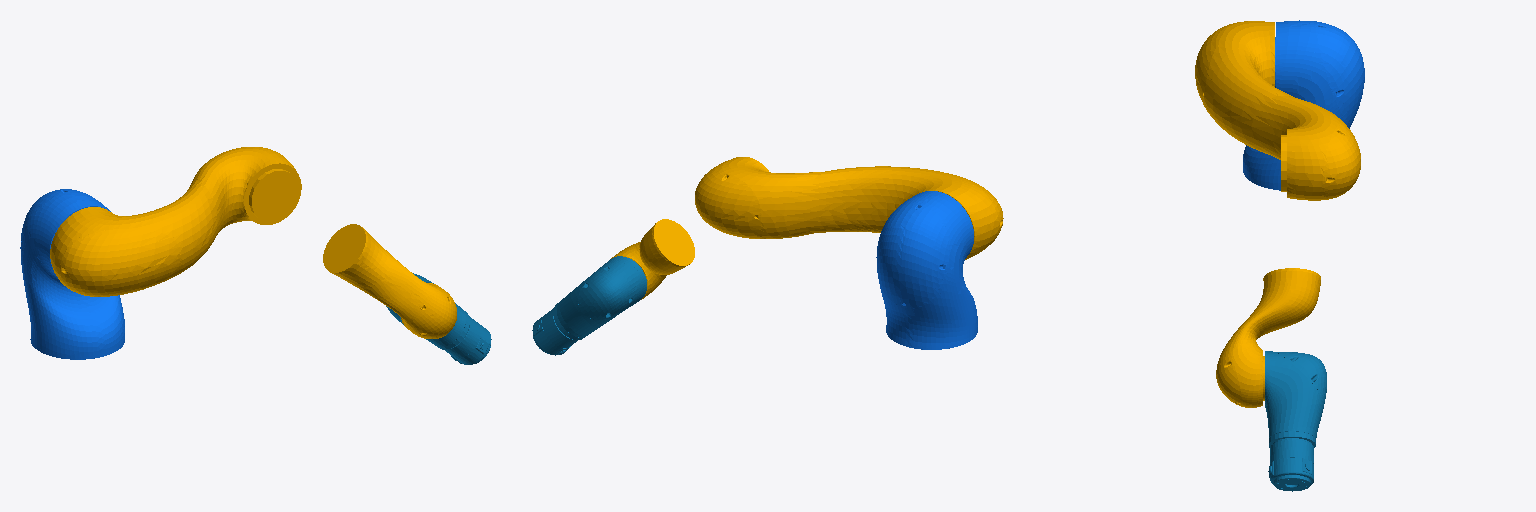
URDF robot description (hsr_co602a):
<robot
  name="hsr_co602a">

  <link name="world"/>

  <joint name="fixed" type="fixed">
    <parent link="world"/>
    <child link="base_link"/>
	<origin
      xyz="0 0 1"
      rpy="0 0 0" />
  </joint> 

  <link
    name="base_link">
    <inertial>
      <origin
        xyz="-0.0024614 3.992E-07 0.076752"
        rpy="0 0 0" />
      <mass
        value="4.8818" />
      <inertia
        ixx="0"
        ixy="0"
        ixz="0"
        iyy="0"
        iyz="0"
        izz="0" />
    </inertial>
    <visual>
      <origin
        xyz="0 0 0"
        rpy="0 0 0" />
      <geometry>
        <mesh
          filename="package://hsr_description/meshes/co602a/base_link.STL" />
      </geometry>
      <material
        name="">
        <color
          rgba="0.1137 0.5098 0.97 1" />
      </material>
    </visual>
    <collision>
      <origin
        xyz="0 0 0"
        rpy="0 0 0" />
      <geometry>
        <mesh
          filename="package://hsr_description/meshes/co602a/base_link.STL" />
      </geometry>
    </collision>
  </link>
  <link
    name="link1">
    <inertial>
      <origin
        xyz="-3.4523E-06 -0.02843 0.064536"
        rpy="0 0 0" />
      <mass
        value="4.9839" />
      <inertia
        ixx="0"
        ixy="0"
        ixz="0"
        iyy="0"
        iyz="0"
        izz="0" />
    </inertial>
    <visual>
      <origin
        xyz="0 0 0"
        rpy="0 0 0" />
      <geometry>
        <mesh
          filename="package://hsr_description/meshes/co602a/link1.STL" />
      </geometry>
      <material
        name="">
        <color
          rgba="0.1137 0.5098 0.97 1" />
      </material>
    </visual>
    <collision>
      <origin
        xyz="0 0 0"
        rpy="0 0 0" />
      <geometry>
        <mesh
          filename="package://hsr_description/meshes/co602a/link1.STL" />
      </geometry>
    </collision>
  </link>
  <joint
    name="joint_1"
    type="revolute">
    <origin
      xyz="0 0 0.352"
      rpy="3.1416 0 -3.4694E-18" />
    <parent
      link="base_link" />
    <child
      link="link1" />
    <axis
      xyz="0 0 -1" />
    <limit
      lower="-3.490658503988"
      upper="3.490658503988"
      effort="28"
      velocity="3.2" />
    <safety_controller
      soft_upper_limit="3.481931857728"
      soft_lower_limit="-3.481931857728"
      k_position="100"
      k_velocity="10" />
  </joint>
  <link
    name="link2">
    <inertial>
      <origin
        xyz="4.7574E-06 -0.18488 -0.037843"
        rpy="0 0 0" />
      <mass
        value="6.6939" />
      <inertia
        ixx="0"
        ixy="0"
        ixz="0"
        iyy="0"
        iyz="0"
        izz="0" />
    </inertial>
    <visual>
      <origin
        xyz="0 0 0"
        rpy="0 0 0" />
      <geometry>
        <mesh
          filename="package://hsr_description/meshes/co602a/link2.STL" />
      </geometry>
      <material
        name="">
        <color
          rgba="0.97 0.7 0 1" />
      </material>
    </visual>
    <collision>
      <origin
        xyz="0 0 0"
        rpy="0 0 0" />
      <geometry>
        <mesh
          filename="package://hsr_description/meshes/co602a/link2.STL" />
      </geometry>
    </collision>
  </link>
  <joint
    name="joint_2"
    type="revolute">
    <origin
      xyz="0 0 0"
      rpy="1.5708 -1.5708 0" />
    <parent
      link="link1" />
    <child
      link="link2" />
    <axis
      xyz="0 0 1" />
    <limit
      lower="-2.268928027592"
      upper="1"
      effort="28"
      velocity="3.2" />
    <safety_controller
      soft_upper_limit="1"
      soft_lower_limit="-2.260201381332"
      k_position="100"
      k_velocity="10" />
  </joint>
  <link
    name="link3">
    <inertial>
      <origin
        xyz="-4.098E-05 -0.085254 -0.035956"
        rpy="0 0 0" />
      <mass
        value="2.3223" />
      <inertia
        ixx="0"
        ixy="0"
        ixz="0"
        iyy="0"
        iyz="0"
        izz="0" />
    </inertial>
    <visual>
      <origin
        xyz="0 0 0"
        rpy="0 0 0" />
      <geometry>
        <mesh
          filename="package://hsr_description/meshes/co602a/link3.STL" />
      </geometry>
      <material
        name="">
        <color
          rgba="0.1137 0.5098 0.97 1" />
      </material>
    </visual>
    <collision>
      <origin
        xyz="0 0 0"
        rpy="0 0 0" />
      <geometry>
        <mesh
          filename="package://hsr_description/meshes/co602a/link3.STL" />
      </geometry>
    </collision>
  </link>
  <joint
    name="joint_3"
    type="revolute">
    <origin
      xyz="0 -0.4 0"
      rpy="6.3741E-17 1.5386E-16 -1.5708" />
    <parent
      link="link2" />
    <child
      link="link3" />
    <axis
      xyz="0 0 1" />
    <limit
      lower="1"
      upper="3.665191429188"
      effort="28"
      velocity="3.2" />
    <safety_controller
      soft_upper_limit="3.656464782928"
      soft_lower_limit="0.008726646259"
      k_position="100"
      k_velocity="10" />
  </joint>
  <link
    name="link4">
    <inertial>
      <origin
        xyz="0.049627 2.6934E-06 0.3246"
        rpy="0 0 0" />
      <mass
        value="1.3111" />
      <inertia
        ixx="0"
        ixy="0"
        ixz="0"
        iyy="0"
        iyz="0"
        izz="0" />
    </inertial>
    <visual>
      <origin
        xyz="0 0 0"
        rpy="0 0 0" />
      <geometry>
        <mesh
          filename="package://hsr_description/meshes/co602a/link4.STL" />
      </geometry>
      <material
        name="">
        <color
          rgba="0.97 0.7 0 1" />
      </material>
    </visual>
    <collision>
      <origin
        xyz="0 0 0"
        rpy="0 0 0" />
      <geometry>
        <mesh
          filename="package://hsr_description/meshes/co602a/link4.STL" />
      </geometry>
    </collision>
  </link>
  <joint
    name="joint_4"
    type="revolute">
    <origin
      xyz="0 0 0"
      rpy="1.5708 1.5708 0" />
    <parent
      link="link3" />
    <child
      link="link4" />
    <axis
      xyz="0 0 1" />
    <limit
      lower="-3.141592653589"
      upper="3.141592653589"
      effort="28"
      velocity="3.2" />
    <safety_controller
      soft_upper_limit="3.132866007329"
      soft_lower_limit="-3.132866007329"
      k_position="100"
      k_velocity="10" />
  </joint>
  <link
    name="link5">
    <inertial>
      <origin
        xyz="1.2952E-06 -0.043824 0.0021728"
        rpy="0 0 0" />
      <mass
        value="1.1683" />
      <inertia
        ixx="0"
        ixy="0"
        ixz="0"
        iyy="0"
        iyz="0"
        izz="0" />
    </inertial>
    <visual>
      <origin
        xyz="0 0 0"
        rpy="0 0 0" />
      <geometry>
        <mesh
          filename="package://hsr_description/meshes/co602a/link5.STL" />
      </geometry>
      <material
        name="">
        <color
          rgba="0.113 0.5098 0.7 1" />
      </material>
    </visual>
    <collision>
      <origin
        xyz="0 0 0"
        rpy="0 0 0" />
      <geometry>
        <mesh
          filename="package://hsr_description/meshes/co602a/link5.STL" />
      </geometry>
    </collision>
  </link>
  <joint
    name="joint_5"
    type="revolute">
    <origin
      xyz="0 0 0.39901"
      rpy="-1.5708 1.8044E-17 1.5708" />
    <parent
      link="link4" />
    <child
      link="link5" />
    <axis
      xyz="0 0 1" />
    <limit
      lower="-2.268928027592"
      upper="2.268928027592"
      effort="28"
      velocity="3.2" />
    <safety_controller
      soft_upper_limit="2.260201381332"
      soft_lower_limit="-2.260201381332"
      k_position="100"
      k_velocity="10" />
  </joint>
  <link
    name="link6">
    <inertial>
      <origin
        xyz="-3.5784E-05 3.8806E-05 -0.025197"
        rpy="0 0 0" />
      <mass
        value="0.20458" />
      <inertia
        ixx="0"
        ixy="0"
        ixz="0"
        iyy="0"
        iyz="0"
        izz="0" />
    </inertial>
    <visual>
      <origin
        xyz="0 0 0"
        rpy="0 0 0" />
      <geometry>
        <mesh
          filename="package://hsr_description/meshes/co602a/link6.STL" />
      </geometry>
      <material
        name="">
        <color
          rgba="0.113 0.5098 0.7 1" />
      </material>
    </visual>
    <collision>
      <origin
        xyz="0 0 0"
        rpy="0 0 0" />
      <geometry>
        <mesh
          filename="package://hsr_description/meshes/co602a/link6.STL" />
      </geometry>
    </collision>
  </link>
  <joint
    name="joint_6"
    type="revolute">
    <origin
      xyz="0 -0.19849 0"
      rpy="-1.5708 1.0064E-16 -3.1416" />
    <parent
      link="link5" />
    <child
      link="link6" />
    <axis
      xyz="0 0 1" />
    <limit
      lower="-6.283185307179"
      upper="6.283185307179"
      effort="28"
      velocity="3.2" />
    <safety_controller
      soft_upper_limit="6.274458660919"
      soft_lower_limit="-6.274458660919"
      k_position="100"
      k_velocity="10" />
  </joint>

<gazebo>
    <plugin name="gazebo_ros_control" filename="libgazebo_ros_control.so">
      <robotNamespace>/</robotNamespace>
      <robotSimType>gazebo_ros_control/DefaultRobotHWSim</robotSimType>
    </plugin>
  </gazebo>

  <transmission name="tran1">
    <type>transmission_interface/SimpleTransmission</type>
    <joint name="joint_1">
      <hardwareInterface>PositionJointInterface</hardwareInterface>
    </joint>
    <actuator name="motor1">
      <hardwareInterface>PositionJointInterface</hardwareInterface>
      <mechanicalReduction>1</mechanicalReduction>
    </actuator>
  </transmission>

  <transmission name="tran2">
    <type>transmission_interface/SimpleTransmission</type>
    <joint name="joint_2">
      <hardwareInterface>PositionJointInterface</hardwareInterface>
    </joint>
    <actuator name="motor2">
      <hardwareInterface>PositionJointInterface</hardwareInterface>
      <mechanicalReduction>1</mechanicalReduction>
    </actuator>
  </transmission>

  <transmission name="tran3">
    <type>transmission_interface/SimpleTransmission</type>
    <joint name="joint_3">
      <hardwareInterface>PositionJointInterface</hardwareInterface>
    </joint>
    <actuator name="motor3">
      <hardwareInterface>PositionJointInterface</hardwareInterface>
      <mechanicalReduction>1</mechanicalReduction>
    </actuator>
  </transmission>

  <transmission name="tran4">
    <type>transmission_interface/SimpleTransmission</type>
    <joint name="joint_4">
      <hardwareInterface>PositionJointInterface</hardwareInterface>
    </joint>
    <actuator name="motor4">
      <hardwareInterface>PositionJointInterface</hardwareInterface>
      <mechanicalReduction>1</mechanicalReduction>
    </actuator>
  </transmission>

  <transmission name="tran5">
    <type>transmission_interface/SimpleTransmission</type>
    <joint name="joint_5">
      <hardwareInterface>PositionJointInterface</hardwareInterface>
    </joint>
    <actuator name="motor5">
      <hardwareInterface>PositionJointInterface</hardwareInterface>
      <mechanicalReduction>1</mechanicalReduction>
    </actuator>
  </transmission>

  <transmission name="tran6">
    <type>transmission_interface/SimpleTransmission</type>
    <joint name="joint_6">
      <hardwareInterface>PositionJointInterface</hardwareInterface>
    </joint>
    <actuator name="motor6">
      <hardwareInterface>PositionJointInterface</hardwareInterface>
      <mechanicalReduction>1</mechanicalReduction>
    </actuator>
  </transmission>

</robot>

--- Render facts (derived) ---
3 views of the same robot in one strip: view 1: azimuth 30°, elevation 25°; view 2: azimuth 150°, elevation 25°; view 3: azimuth 270°, elevation 25° (orthographic).
Robot: hsr_co602a — 8 links, 7 joints (6 revolute, 1 fixed); root link world; default pose: joints at zero except 1 at the middle of their limits (joint_3 = 2.33).
Links seen in each view (by area): view 1: link2, link1, link4, link6, link5; view 2: link2, link1, link5, link4, link6; view 3: link2, link1, link4, link5, link6.
Boxes of the visible links, box(x1,y1,x2,y2) form: link2: box(50, 147, 301, 296); link1: box(20, 189, 124, 359); link4: box(323, 224, 456, 338); link6: box(445, 316, 491, 364); link5: box(386, 273, 469, 349); link2: box(695, 157, 1003, 259); link1: box(876, 191, 977, 349); link5: box(553, 256, 646, 339); link4: box(611, 219, 694, 299); link6: box(532, 308, 577, 355); link2: box(1195, 21, 1360, 200); link1: box(1243, 20, 1364, 190); link4: box(1216, 268, 1320, 407); link5: box(1265, 351, 1326, 447); link6: box(1268, 440, 1313, 491).
Bounding box of the posed robot: 0.945 × 0.2939 × 0.5138 m (x, y, z).
Meshes: 7 distinct files referenced, 5 mesh visuals loaded (5 binary STL); not drawn: 2 (reference not matched to a file when rendering).